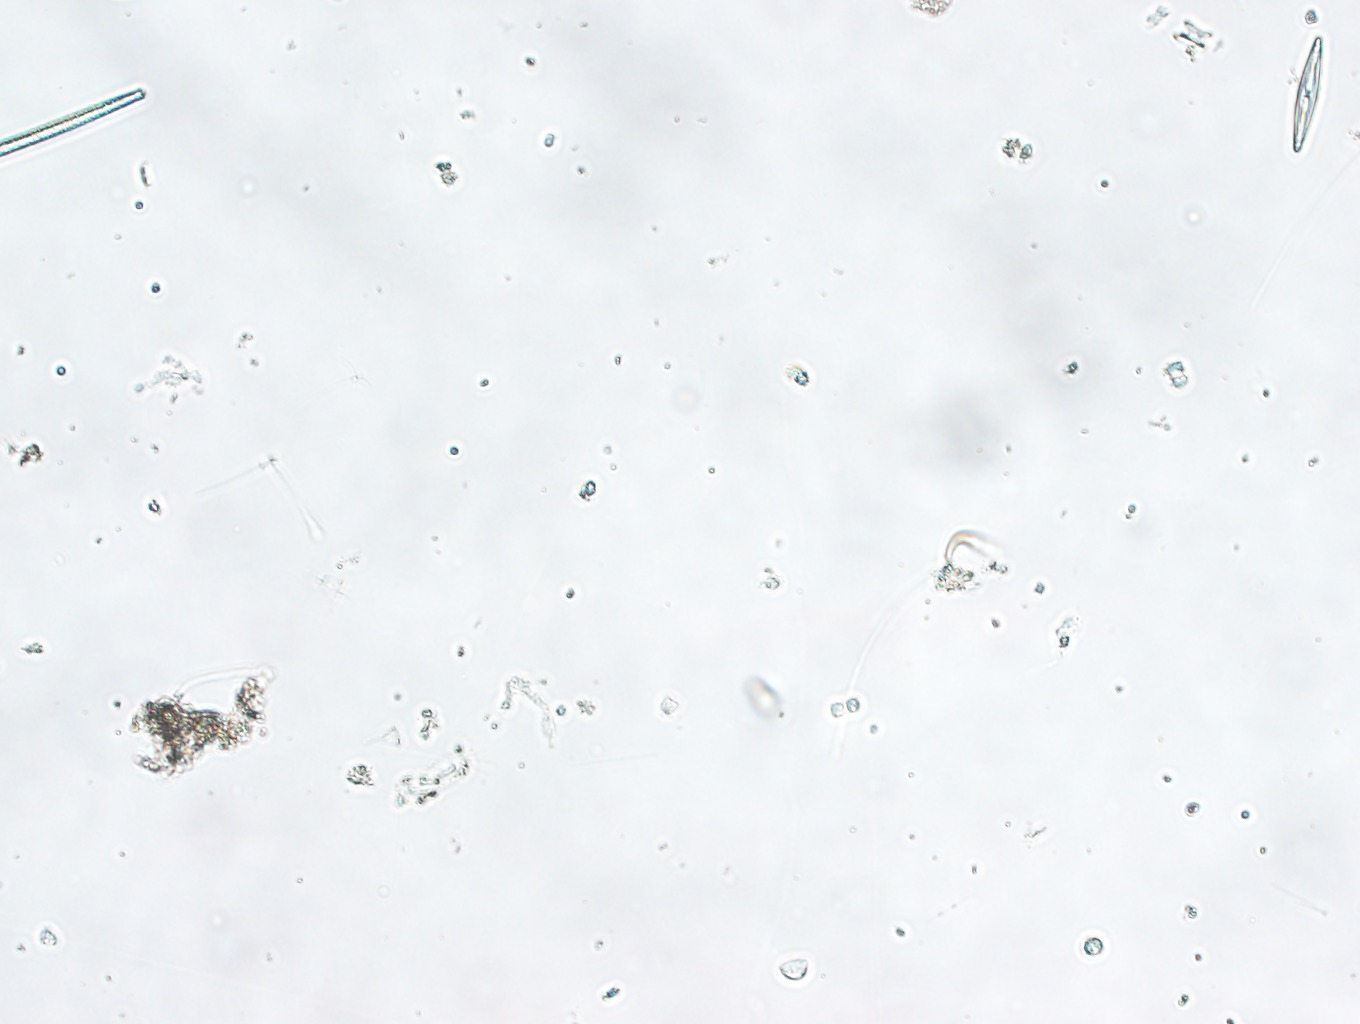navicula: (1279, 35, 1331, 156)
